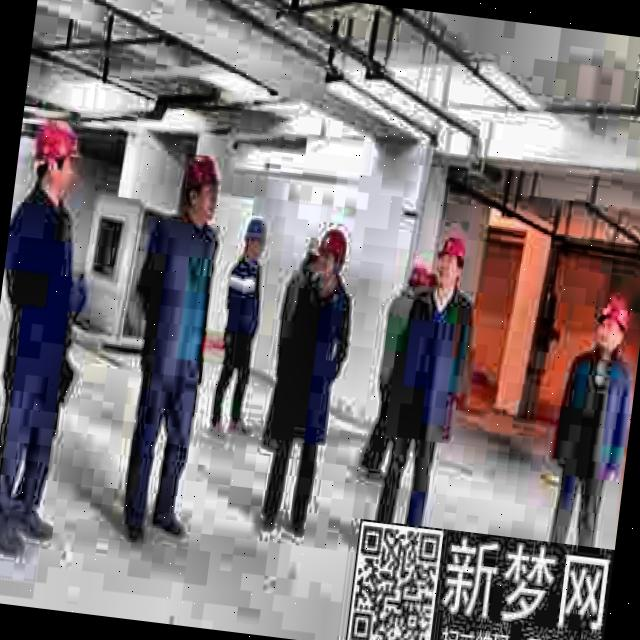helmet: (26, 109, 88, 209), (176, 150, 228, 232), (586, 289, 636, 364), (434, 228, 472, 296), (314, 224, 352, 286), (238, 214, 270, 262), (402, 253, 432, 303)
